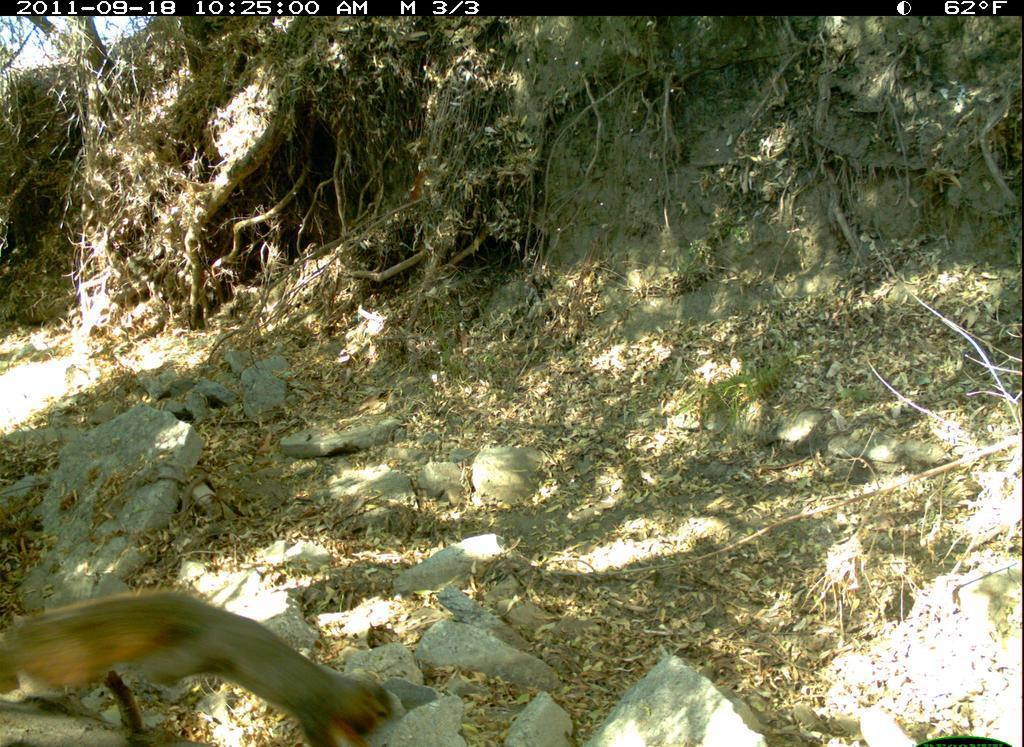squirrel: (1, 588, 414, 747)
